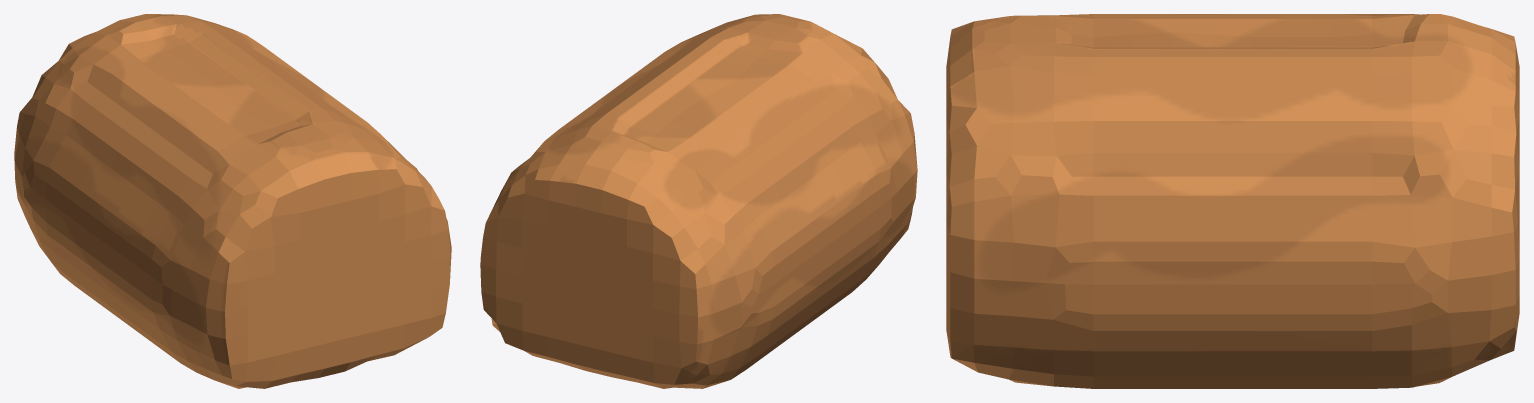
Rendered from bread.fbx.
The picture shows the model from 3 angles, left to right: view 1: azimuth 30°, elevation 25°; view 2: azimuth 150°, elevation 25°; view 3: azimuth 270°, elevation 25°; orthographic projection. The views are drawn at different scales.
Visible parts, largest first — view 1: Cylinder; view 2: Cylinder; view 3: Cylinder.
Part boxes in pixels (x1,y1,x2,y2): Cylinder: [14, 14, 451, 388]; Cylinder: [480, 14, 917, 388]; Cylinder: [946, 14, 1519, 388].
Size of the model in its own units: 283 by 198 by 167.
1 material, 1 textured.
